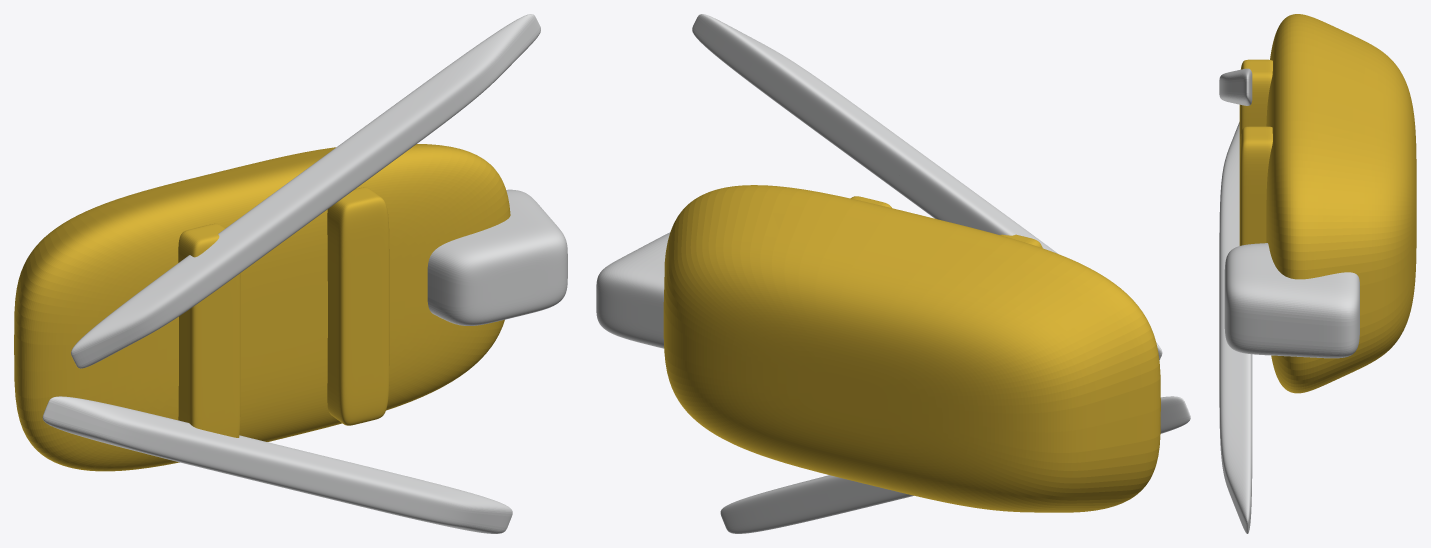
The model's file is rowing_boat_with_oars_sq.glb.
3 renders of one model, left to right at view 1: azimuth 30°, elevation 25°; view 2: azimuth 150°, elevation 25°; view 3: azimuth 270°, elevation 25°, orthographic. The views are drawn at different scales.
Parts seen in each view (by area): view 1: superquadric_0, superquadric_4, superquadric_3, superquadric_2, superquadric_5, superquadric_1; view 2: superquadric_0, superquadric_4, superquadric_3, superquadric_5; view 3: superquadric_0, superquadric_5, superquadric_3, superquadric_2, superquadric_1, superquadric_4.
Boxes of the visible parts, bbox=[...] form: superquadric_0: bbox=[14, 144, 510, 471]; superquadric_4: bbox=[71, 14, 540, 368]; superquadric_3: bbox=[42, 396, 512, 533]; superquadric_2: bbox=[327, 187, 389, 425]; superquadric_5: bbox=[427, 189, 567, 325]; superquadric_1: bbox=[178, 223, 240, 437]; superquadric_0: bbox=[663, 185, 1160, 512]; superquadric_4: bbox=[692, 14, 1162, 360]; superquadric_3: bbox=[720, 396, 1190, 533]; superquadric_5: bbox=[596, 232, 670, 348]; superquadric_0: bbox=[1266, 14, 1416, 393]; superquadric_5: bbox=[1224, 243, 1359, 358]; superquadric_3: bbox=[1219, 122, 1252, 533]; superquadric_2: bbox=[1239, 126, 1272, 245]; superquadric_1: bbox=[1239, 59, 1272, 154]; superquadric_4: bbox=[1219, 68, 1252, 105].
Bounding box in the file's own units: 1 × 0.9052 × 0.3436.
